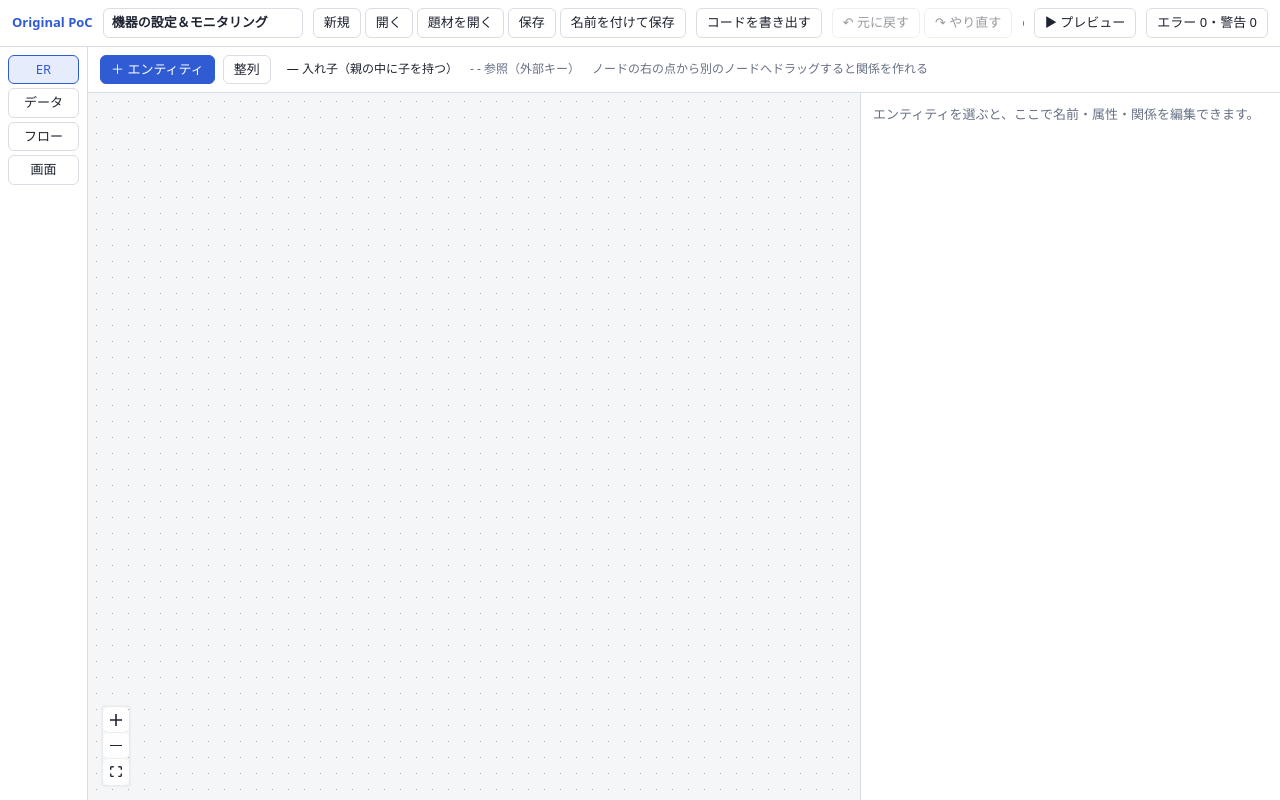
Test: App › プロジェクト名を変えると Undo / Redo できる（ショートカットも）
This screenshot has width=1280, height=800.
Replace the text in the field named "プロジェクト名" with "新しい名前" at (203, 23), box [103,8,303,38]
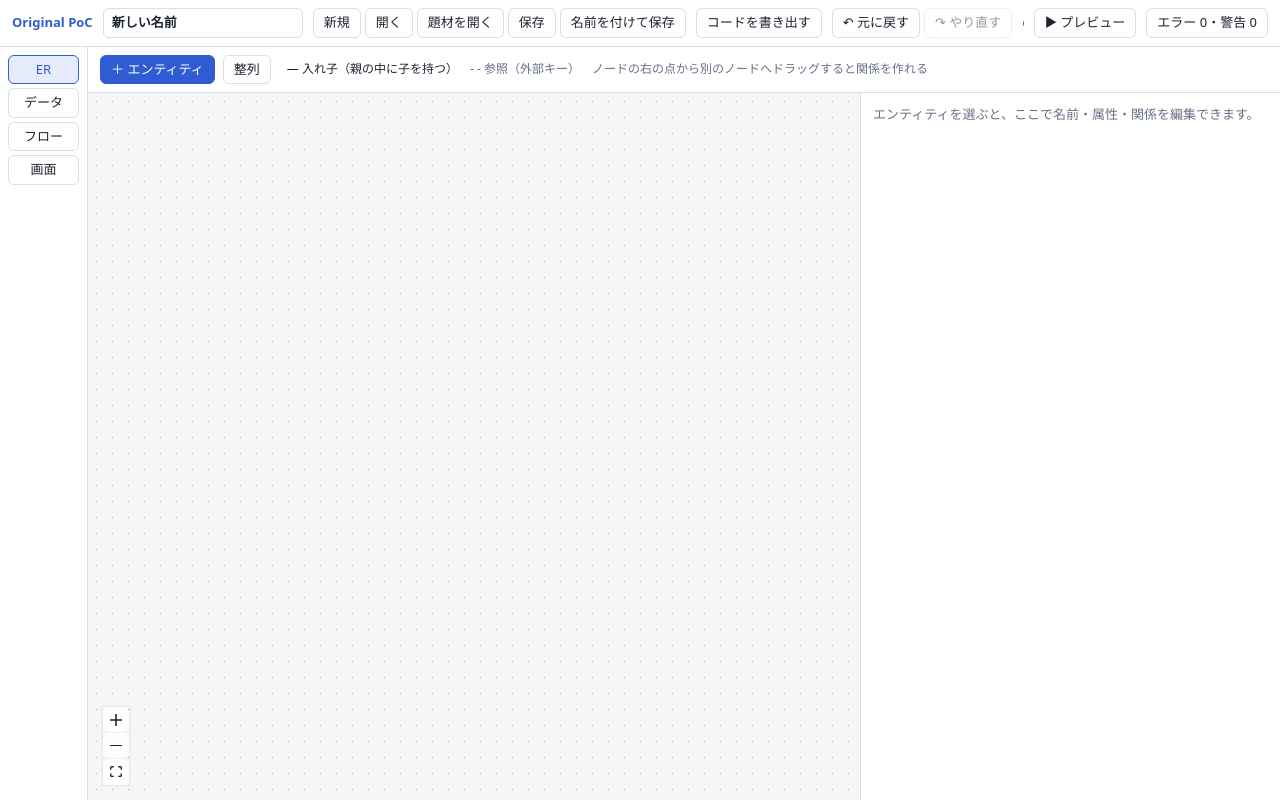
Click the button "↶ 元に戻す" at (876, 23), box [832,8,920,38]
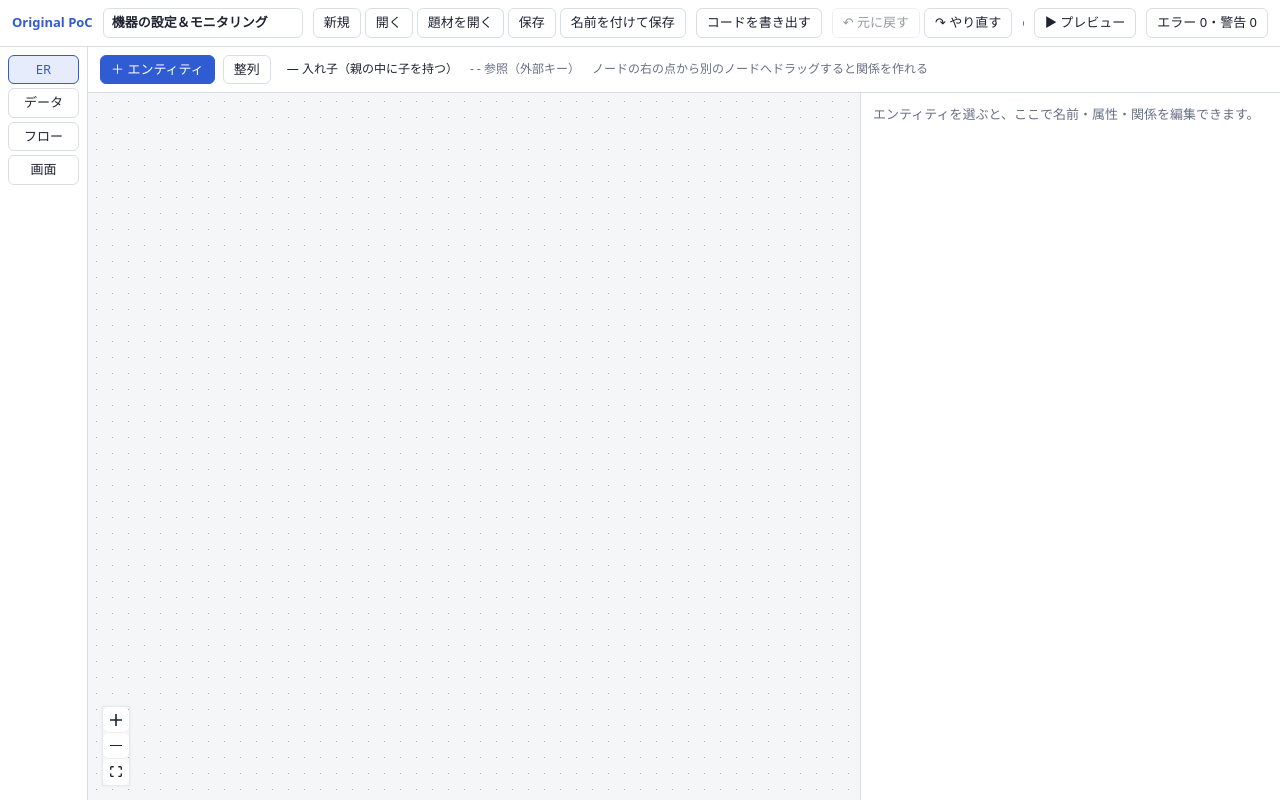
Expected: the field named "プロジェクト名" holds "機器の設定＆モニタリング", [103,8,303,38]
Press z
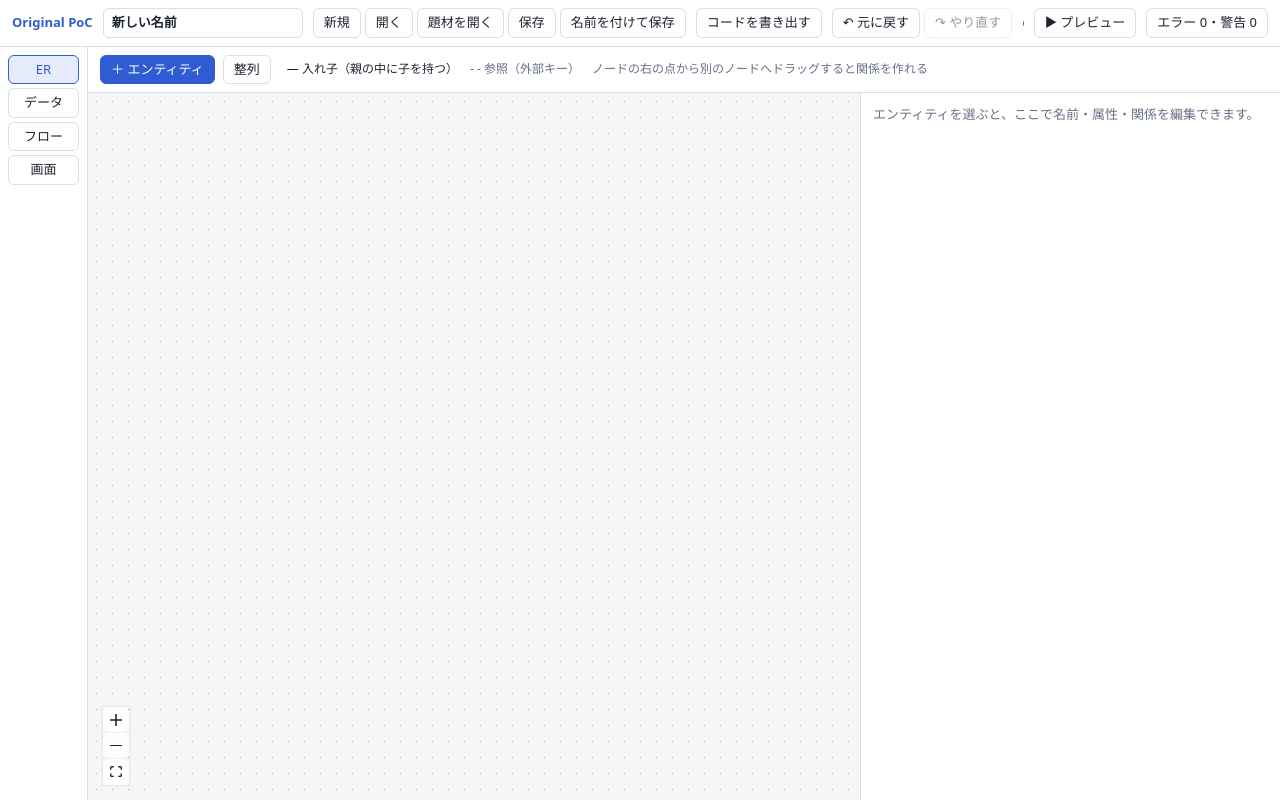
Press z
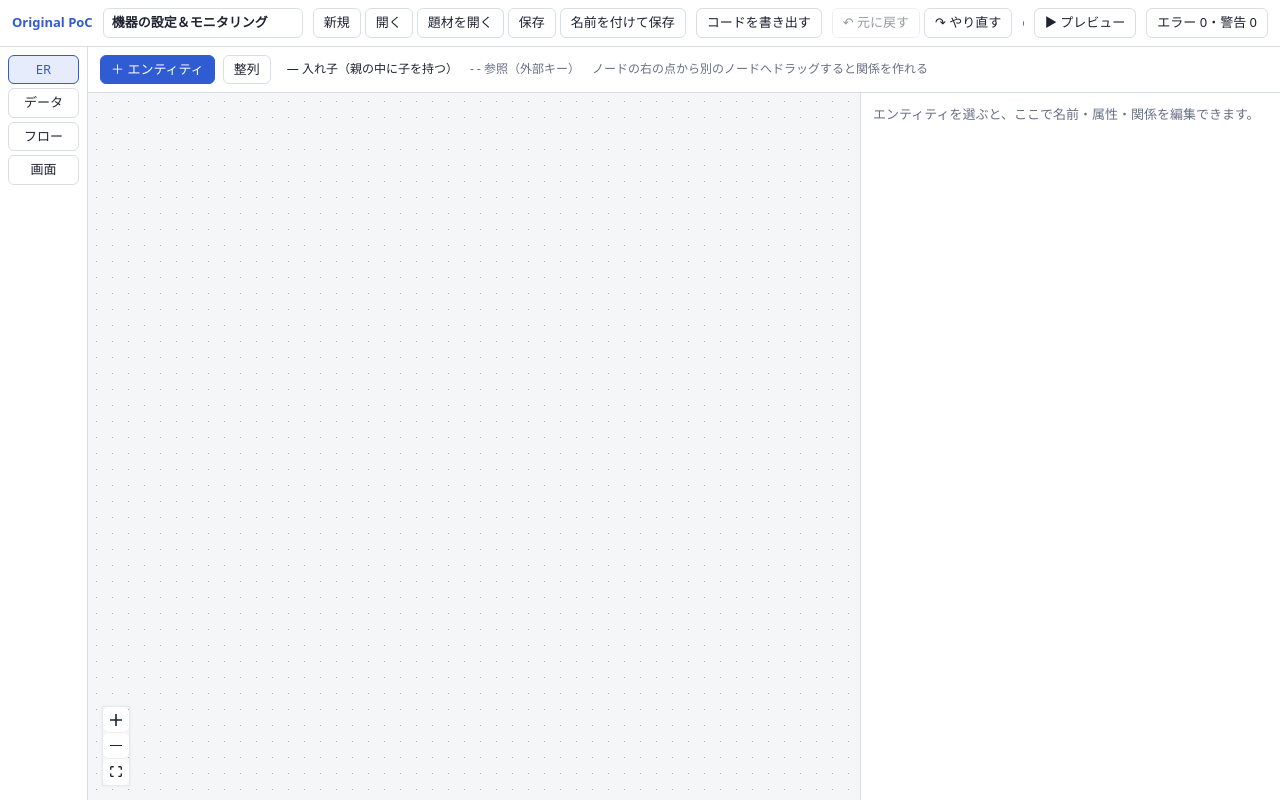
Expected: the field named "プロジェクト名" holds "機器の設定＆モニタリング", [103,8,303,38]
